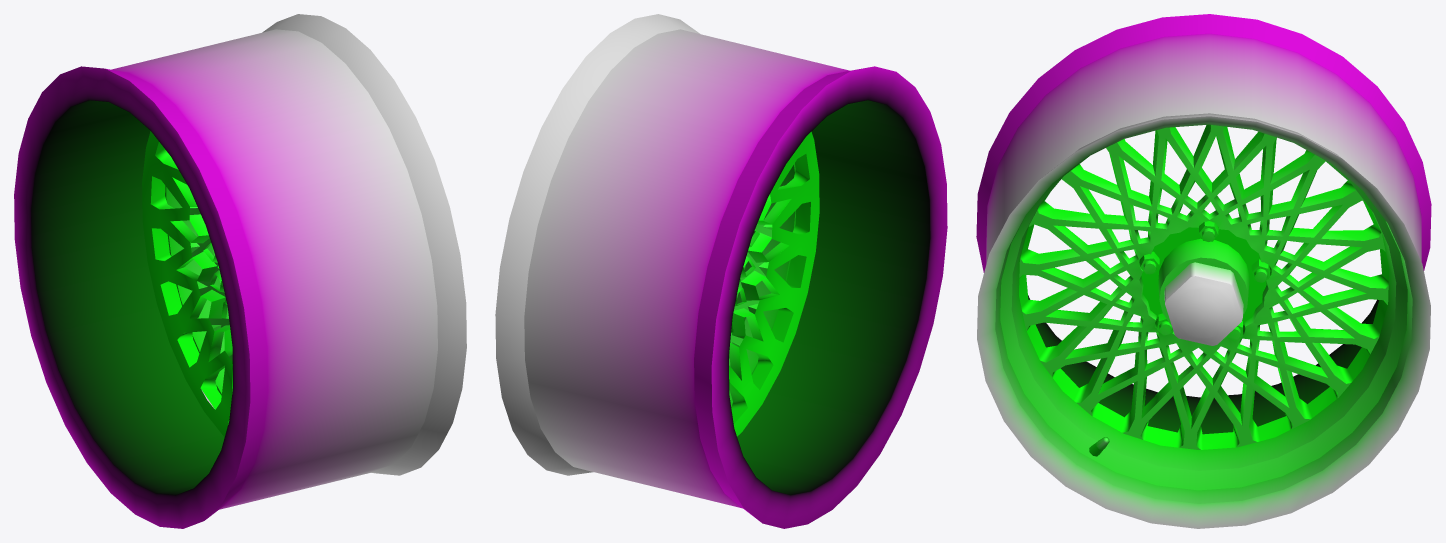
The model's file is Car_Buick_GrandNational_1987_WheelFL_SetA.fbx.
3 renders of one model, left to right at view 1: azimuth 30°, elevation 25°; view 2: azimuth 150°, elevation 25°; view 3: azimuth 270°, elevation 25°, orthographic. The views are drawn at different scales.
Visible parts, largest first — view 1: WheelFL 6; view 2: WheelFL 6; view 3: WheelFL 6.
Part boxes in pixels (x1=…): WheelFL 6: x1=14, y1=14, x2=466, y2=528; WheelFL 6: x1=495, y1=14, x2=947, y2=528; WheelFL 6: x1=976, y1=14, x2=1431, y2=528.
Size of the model in its own units: 0.23 by 0.4357 by 0.4345.
